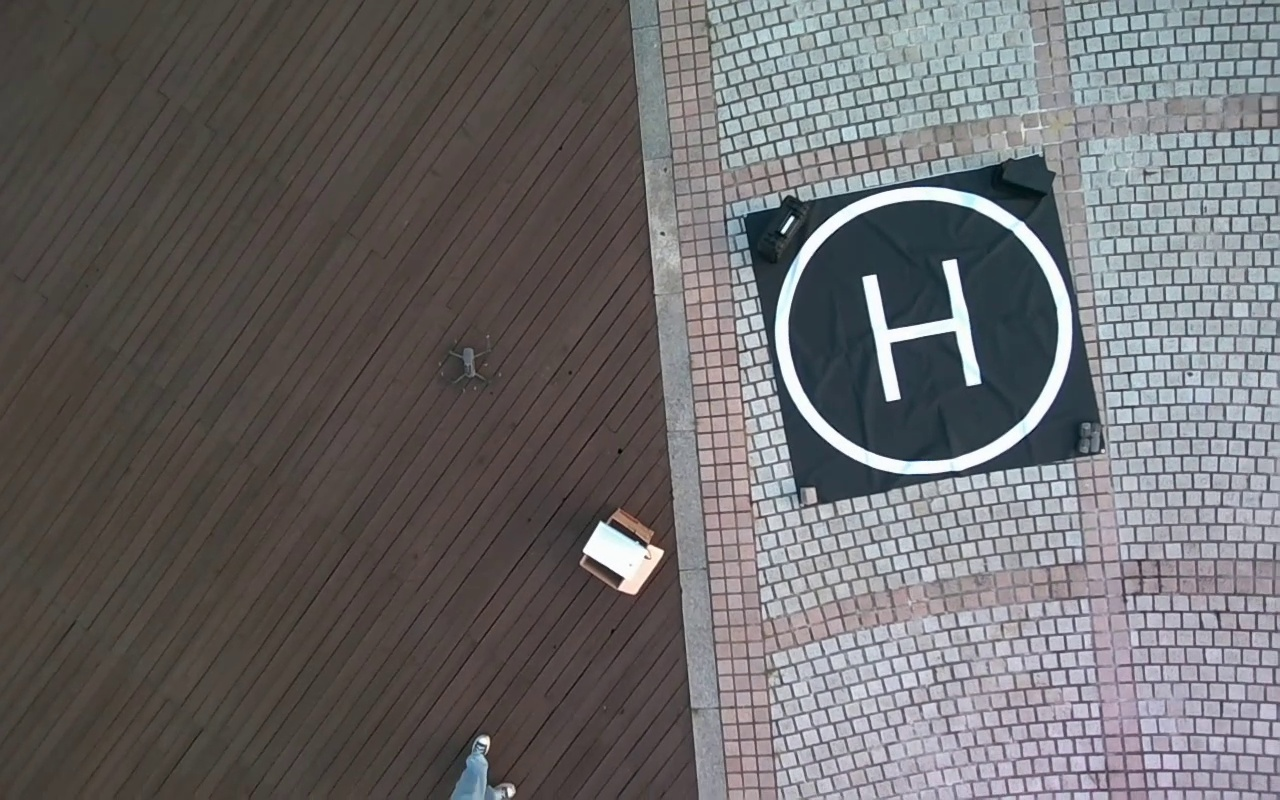H: (859, 257, 984, 403)
heliport: (775, 188, 1076, 477)
